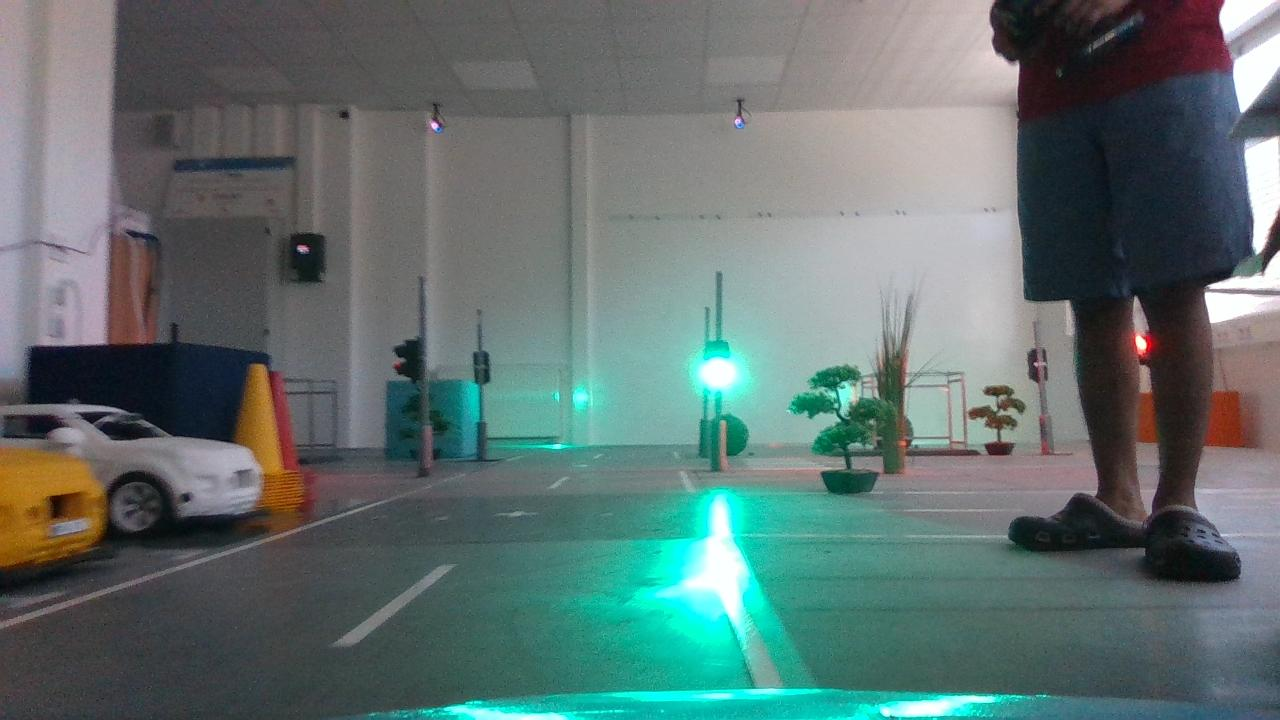traffic_light_green: (698, 333, 740, 399)
